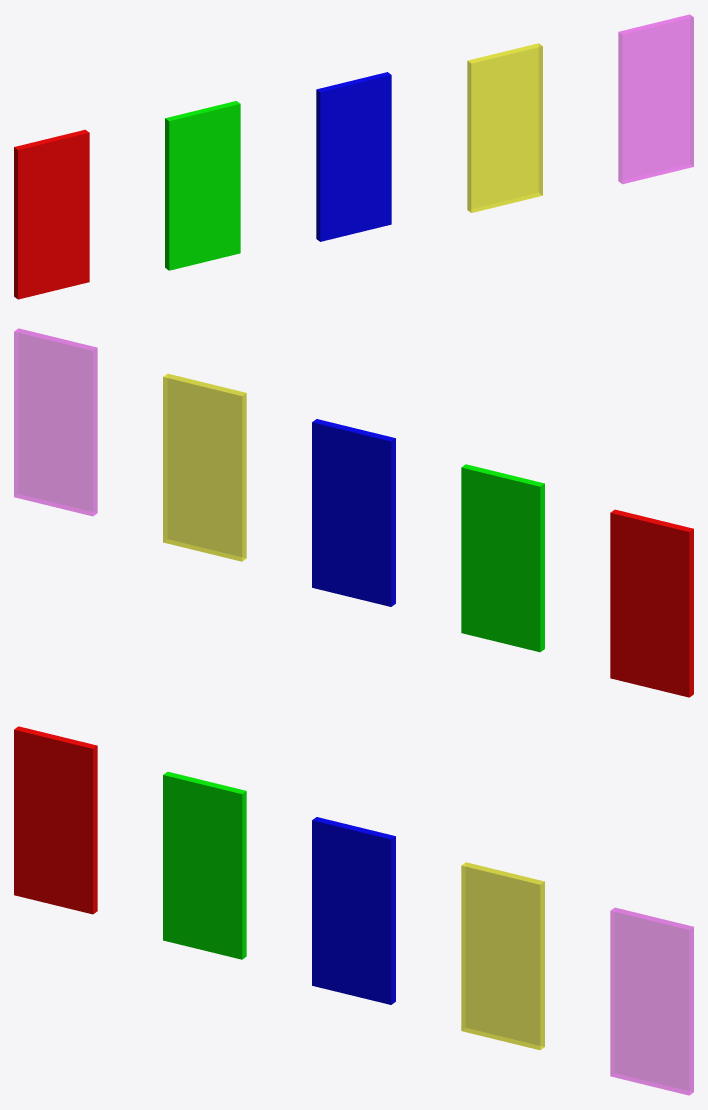
Rendered from board.glb.
3 views of the same model, one above another, from view 1: azimuth 30°, elevation 25°; view 2: azimuth 150°, elevation 25°; view 3: azimuth 330°, elevation 25° (orthographic). The views are drawn at different scales.
Visible parts, largest first — view 1: Substrate_Layer_1, Substrate_Layer_3, Substrate_Layer_0, Substrate_Layer_2, Substrate_Layer_4; view 2: Substrate_Layer_0, Substrate_Layer_1, Substrate_Layer_2, Substrate_Layer_3, Substrate_Layer_4; view 3: Substrate_Layer_0, Substrate_Layer_1, Substrate_Layer_2, Substrate_Layer_3, Substrate_Layer_4.
Part boxes in pixels (x1=…): Substrate_Layer_1: x1=165, y1=101, x2=240, y2=270; Substrate_Layer_3: x1=467, y1=43, x2=542, y2=212; Substrate_Layer_0: x1=14, y1=129, x2=89, y2=299; Substrate_Layer_2: x1=316, y1=72, x2=391, y2=241; Substrate_Layer_4: x1=618, y1=14, x2=693, y2=183; Substrate_Layer_0: x1=610, y1=509, x2=693, y2=697; Substrate_Layer_1: x1=461, y1=464, x2=544, y2=652; Substrate_Layer_2: x1=312, y1=419, x2=395, y2=606; Substrate_Layer_3: x1=163, y1=373, x2=246, y2=561; Substrate_Layer_4: x1=14, y1=328, x2=97, y2=516; Substrate_Layer_0: x1=14, y1=726, x2=97, y2=914; Substrate_Layer_1: x1=163, y1=771, x2=246, y2=959; Substrate_Layer_2: x1=312, y1=817, x2=395, y2=1004; Substrate_Layer_3: x1=461, y1=862, x2=544, y2=1050; Substrate_Layer_4: x1=610, y1=907, x2=693, y2=1095.
Bounding box in the file's own units: 0.009 × 0.002 × 0.0009.
